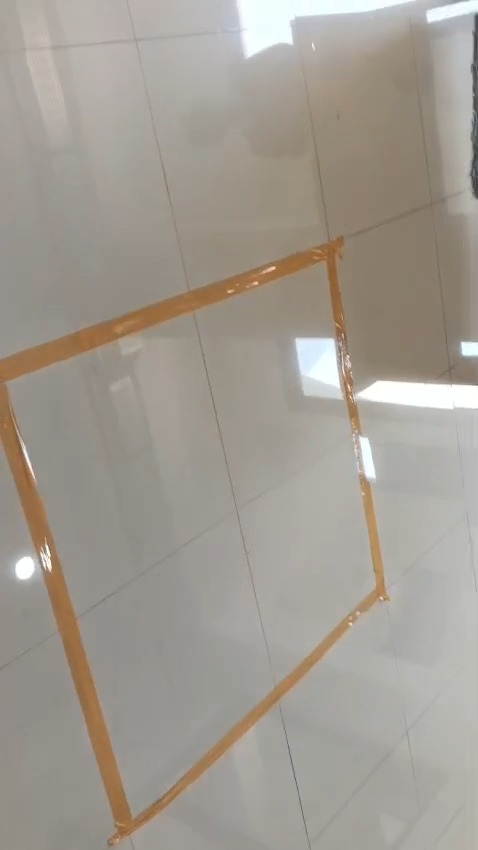floor marking: (0, 237, 387, 844)
